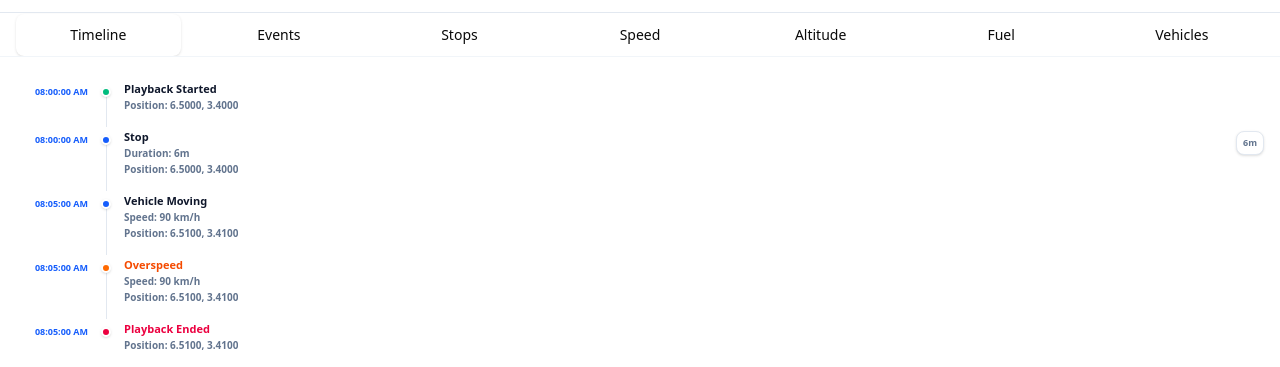
PlaybackBottomPanel › shows fuel entries when telemetry includes fuel readings
The width and height of the screenshot is (1280, 367).
Press the mouse on the tab "Fuel" at (1001, 34), box [919,14,1084,56]
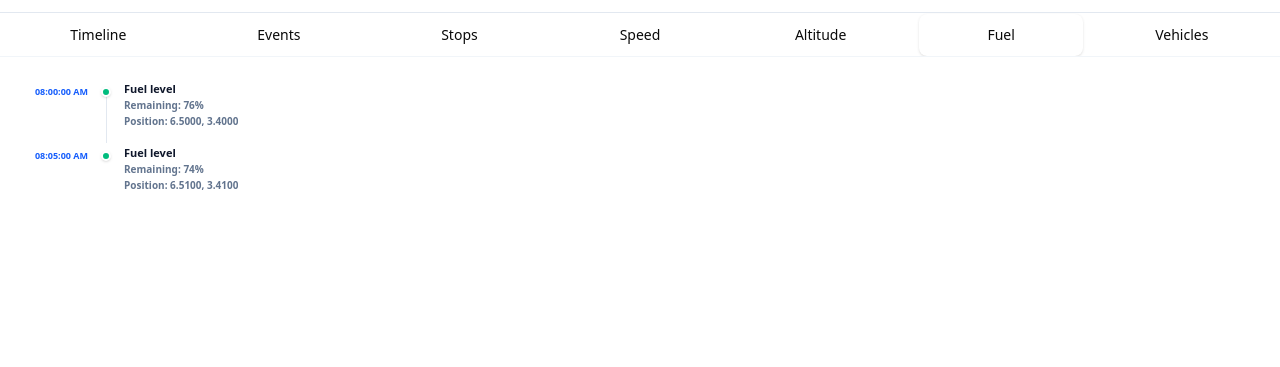
expect the text "Remaining: 76%" is shown: met, box [124,98,204,112]
